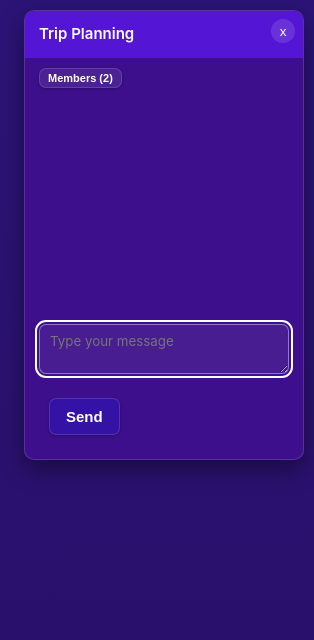
ChatWindow › shows the member count and reveals the roster on click, for a group conversation
Expected: the text "bob" is not shown
Click the button "Members (2)".
click(80, 78)  # box [39, 68, 122, 88]
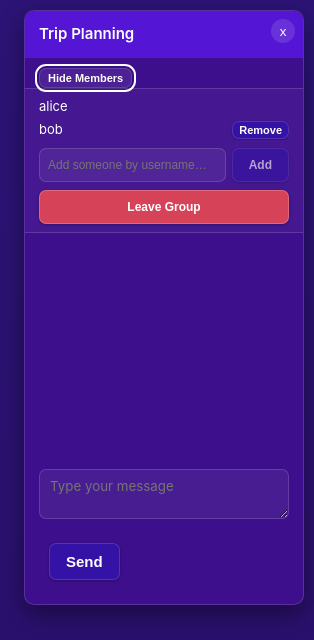
Expected: the list item "alice" is shown, [39, 98, 68, 114]
Expected: the list item "bob" is shown, [39, 121, 63, 137]
Expected: the button "Hide Members" is shown, [39, 68, 132, 88]
